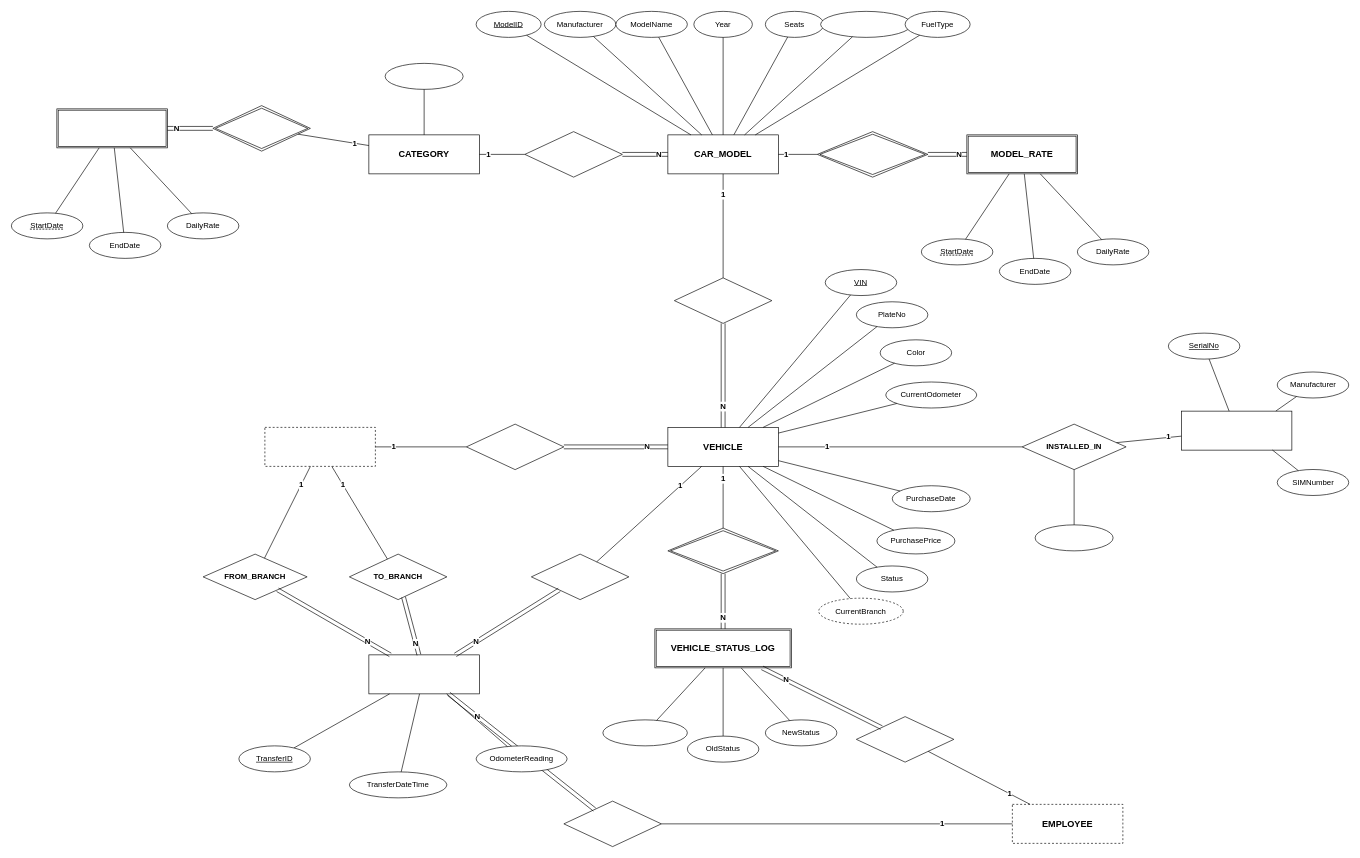
Some shapes in this 1360 by 858 pixel diagram are drawn without their labels. Each missing label, with the centre of its shape:
BRANCH: point (319, 446)
CATEGORY_RATE: point (111, 128)
CategoryName: point (423, 76)
CHANGED_BY: point (905, 739)
ChangeDateTime: point (644, 732)
DRIVEN_BY: point (612, 823)
GPS_DEVICE: point (1236, 430)
HAS_OWN_RATE: point (872, 154)
HAS_RATE: point (261, 128)
HOME_BRANCH: point (515, 446)
IN_CATEGORY: point (573, 154)
InstallDate: point (1073, 537)
IS_OF_MODEL: point (723, 300)
MOVED: point (580, 576)
STATUS_CHANGES: point (722, 550)
TRANSFER: point (423, 674)
TransmissionType: point (866, 24)
